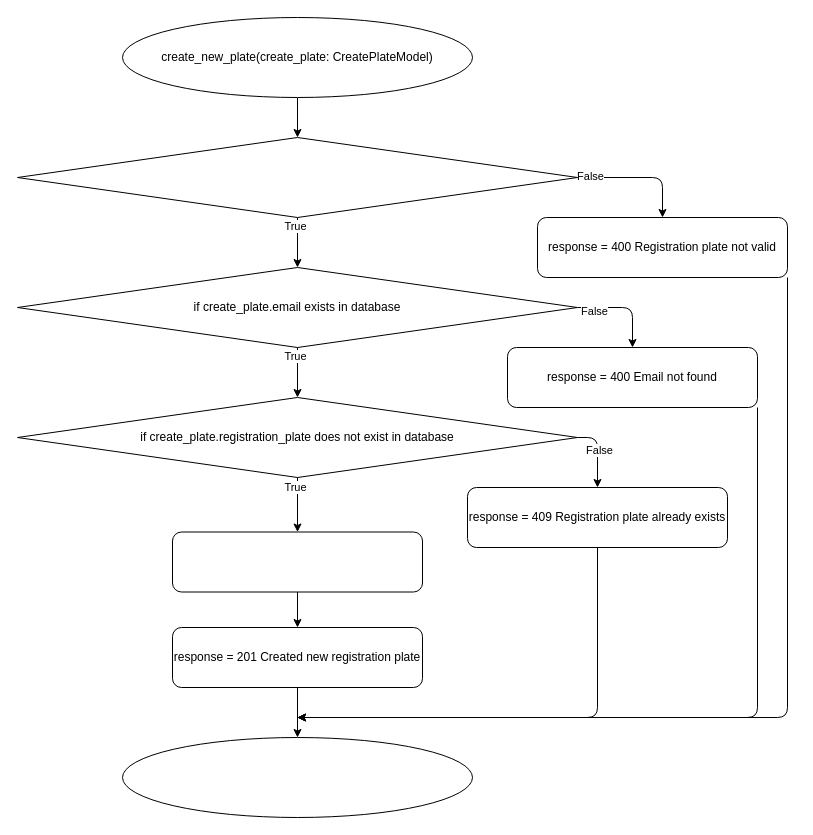
Some shapes in this 813 by 835 pixel diagram are drawn without their labels. Each missing label, with the centre of its shape:
Create new registration plate in database: point 297,561
if create_plate.registration_plate matches r " [ A-Z ] {2} \d {4} [ A-Z ] {2} ": point 297,177
return response: point 297,777
